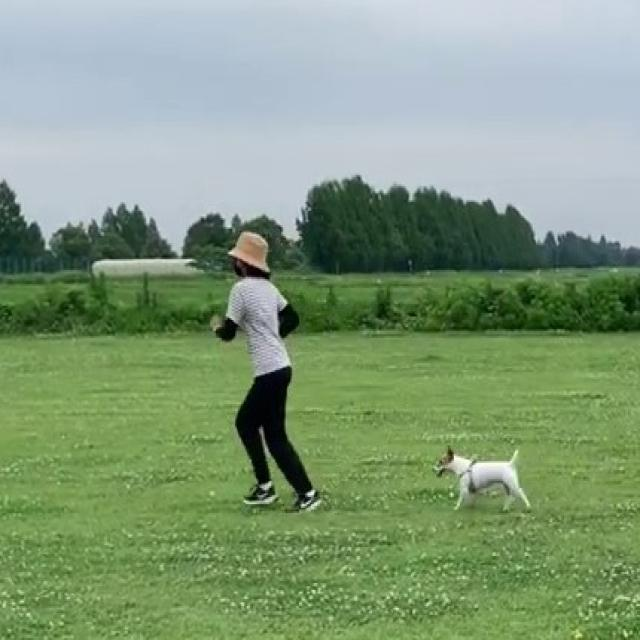Unleashed_Dog: (258, 371, 530, 514)
